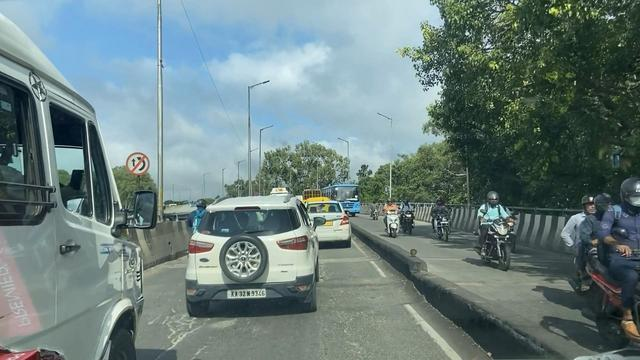LMV: (190, 197, 319, 315), (302, 202, 350, 247)
RoadDamages: (150, 305, 238, 355), (318, 278, 402, 300)
SpeedBump: (324, 252, 381, 266)
